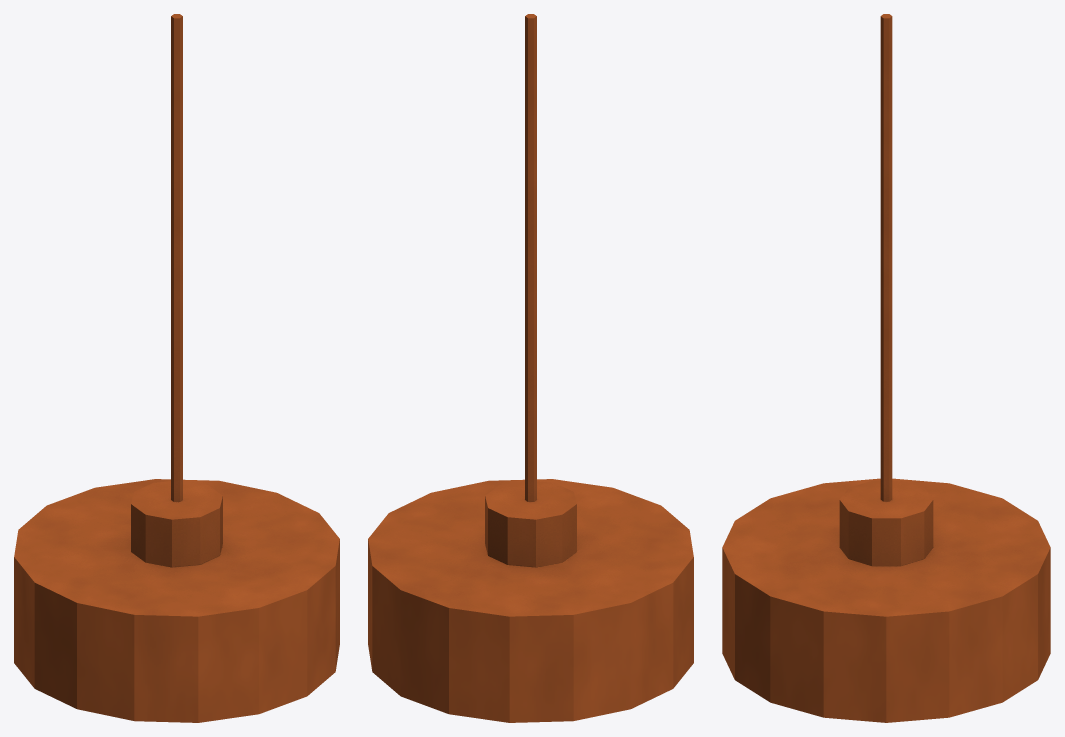
Rendered from base_pendant_lamp.glb.
3 renders of one model, left to right at view 1: azimuth 30°, elevation 25°; view 2: azimuth 150°, elevation 25°; view 3: azimuth 270°, elevation 25°, orthographic.
Visible parts, largest first — view 1: base_pendant_lamp; view 2: base_pendant_lamp; view 3: base_pendant_lamp.
Part boxes in pixels (bbox=[...]): base_pendant_lamp: bbox=[14, 14, 339, 722]; base_pendant_lamp: bbox=[368, 14, 693, 722]; base_pendant_lamp: bbox=[722, 14, 1050, 722].
Bounding box in the file's own units: 0.84 × 1.81 × 0.84.
Materials: 2 (2 with a texture image).
